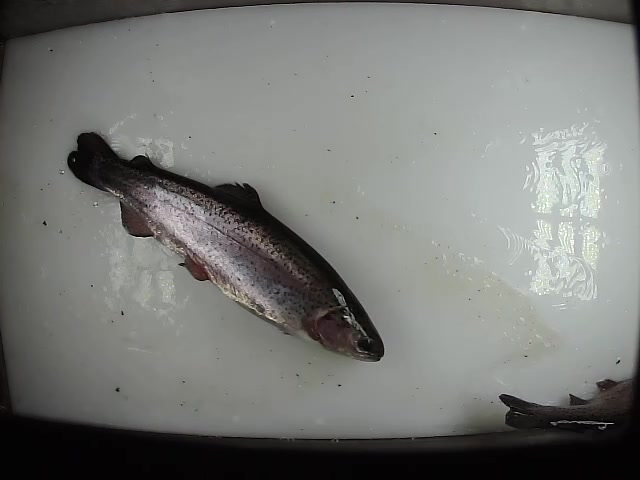fish: (67, 129, 386, 368), (496, 374, 640, 435)
